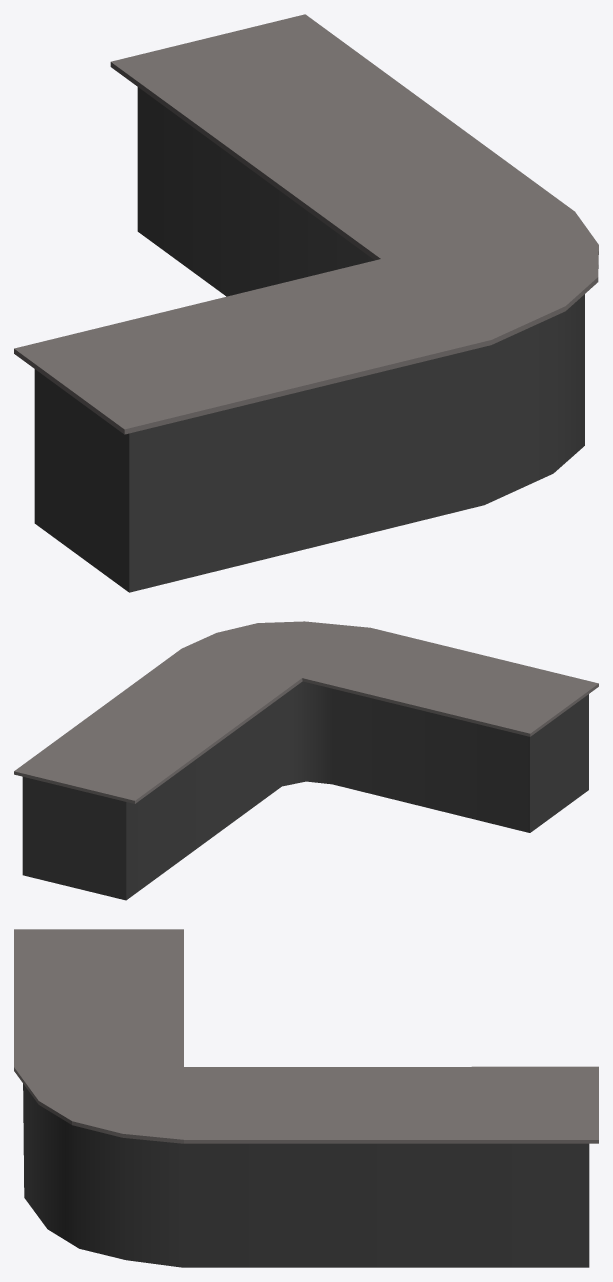
The model's file is SM_Table_04.fbx.
3 views of the same model, one above another, from view 1: azimuth 30°, elevation 25°; view 2: azimuth 150°, elevation 25°; view 3: azimuth 270°, elevation 25° (orthographic). The views are drawn at different scales.
Visible parts, largest first — view 1: SM_Table_04; view 2: SM_Table_04; view 3: SM_Table_04.
Part boxes in pixels (left/top/right/bottom): SM_Table_04: left=14, top=14, right=598, bottom=592; SM_Table_04: left=14, top=621, right=598, bottom=900; SM_Table_04: left=14, top=929, right=598, bottom=1267.
Bounding box in the file's own units: 318 × 92.04 × 373.
Materials: 1 (1 with a texture image).
